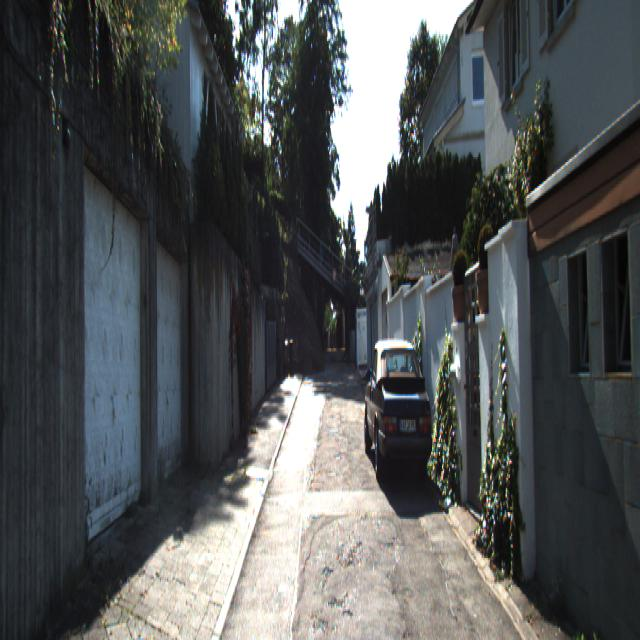Car: (361, 322, 434, 484)
